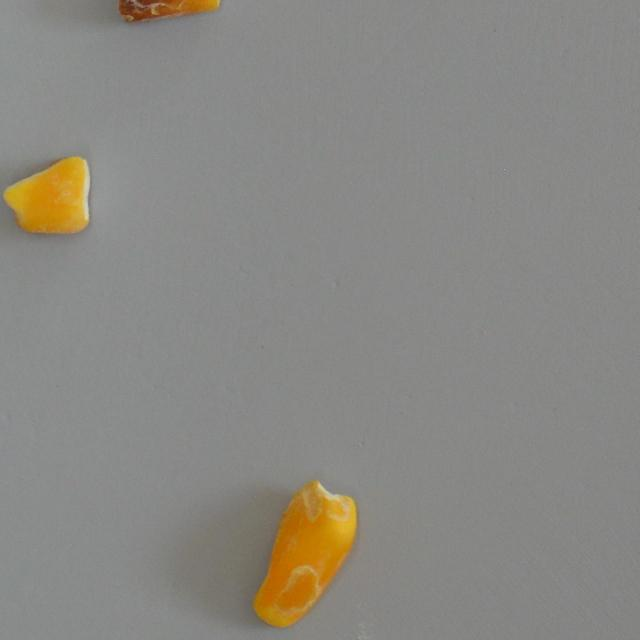dañado: (247, 474, 362, 636), (0, 150, 95, 240), (110, 0, 230, 28)
